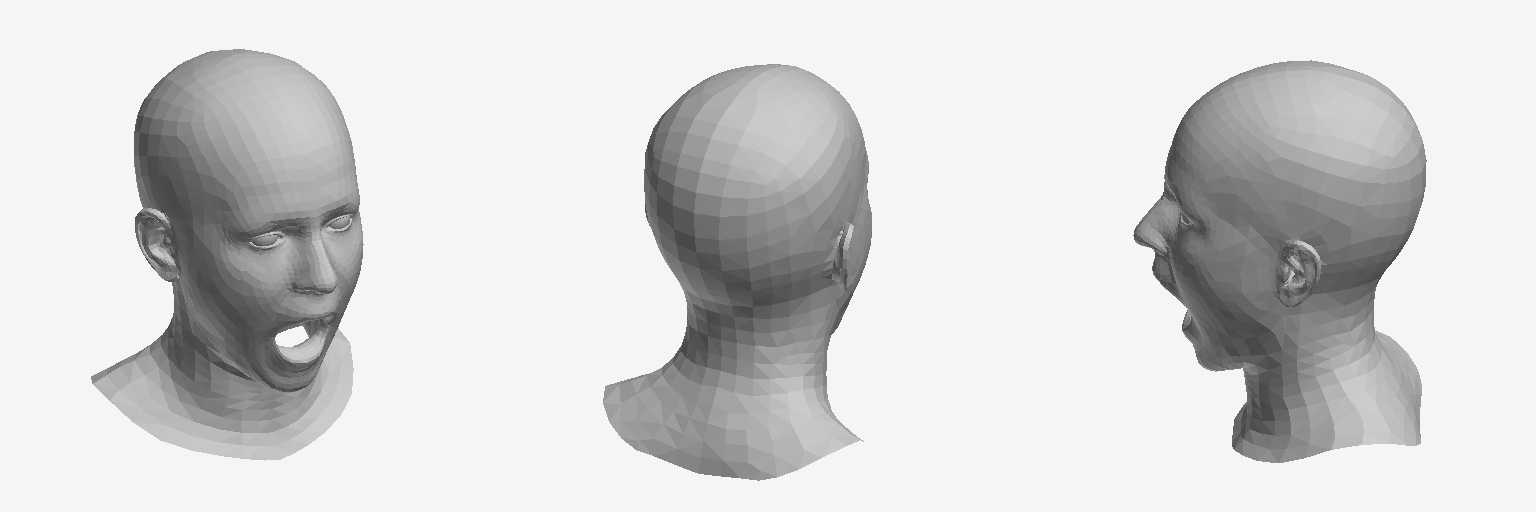
File: mouth_open.obj
The picture shows the model from 3 angles: view 1: azimuth 30°, elevation 25°; view 2: azimuth 150°, elevation 25°; view 3: azimuth 270°, elevation 25°; orthographic projection.
Size of the model in its own units: 0.2182 by 0.3195 by 0.2278.